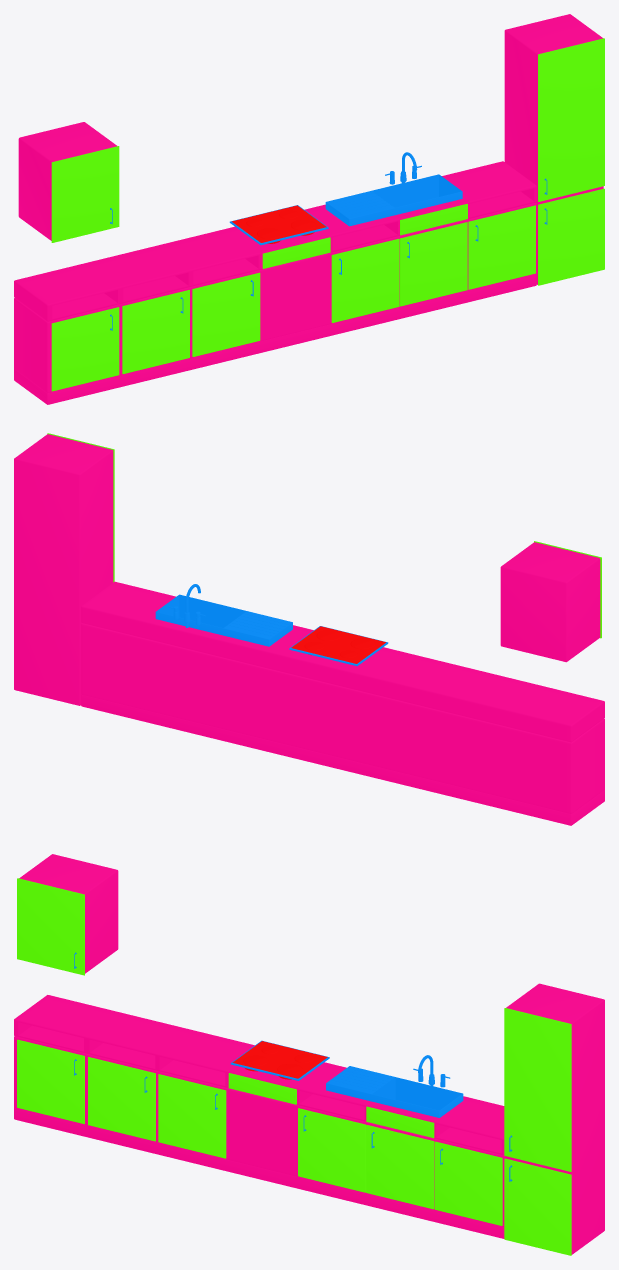
Rendered from Citchen_02.fbx.
The picture shows the model from 3 angles, top to bottom: view 1: azimuth 30°, elevation 25°; view 2: azimuth 150°, elevation 25°; view 3: azimuth 330°, elevation 25°; orthographic projection.
Parts seen in each view (by area): view 1: Body; view 2: Body; view 3: Body.
Part boxes in pixels (left/top/right/bottom): Body: left=14, top=14, right=604, bottom=404; Body: left=14, top=433, right=604, bottom=825; Body: left=14, top=854, right=604, bottom=1255.
Bounding box in the file's own units: 504 × 209 × 56.72.
